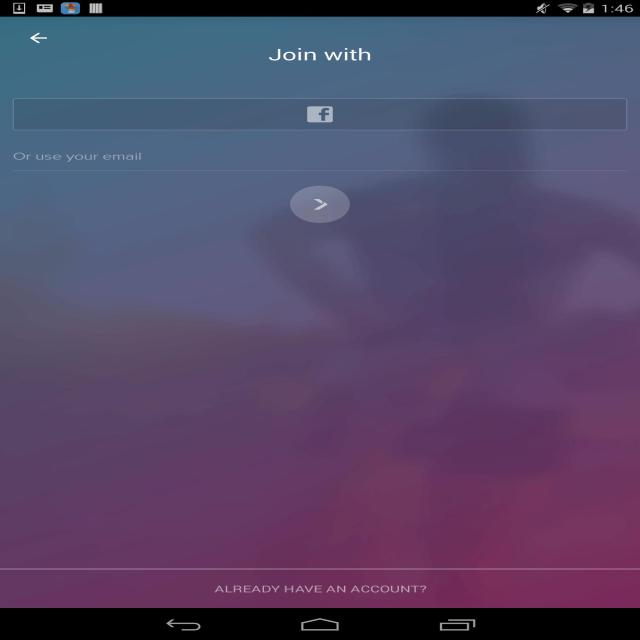button: (19, 98, 626, 131), (294, 184, 350, 225), (19, 29, 56, 49)
field: (8, 142, 633, 172)
label: (10, 150, 148, 161)
text: (214, 582, 428, 598)
